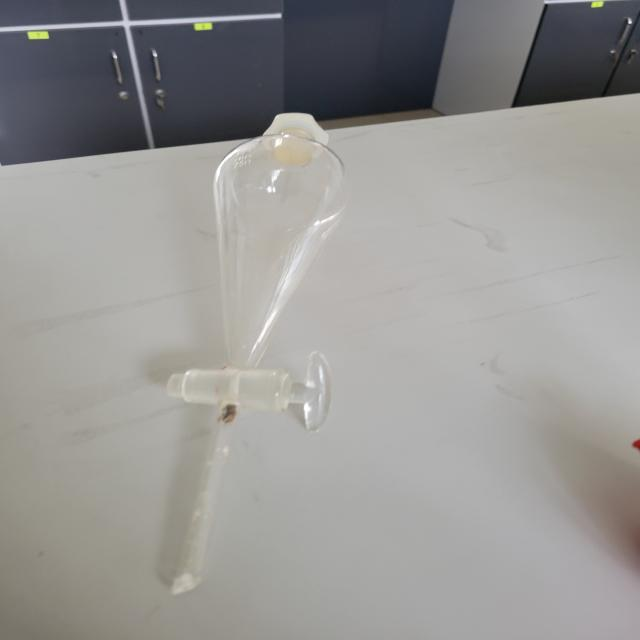Separating_Funnel: (127, 105, 376, 619)
